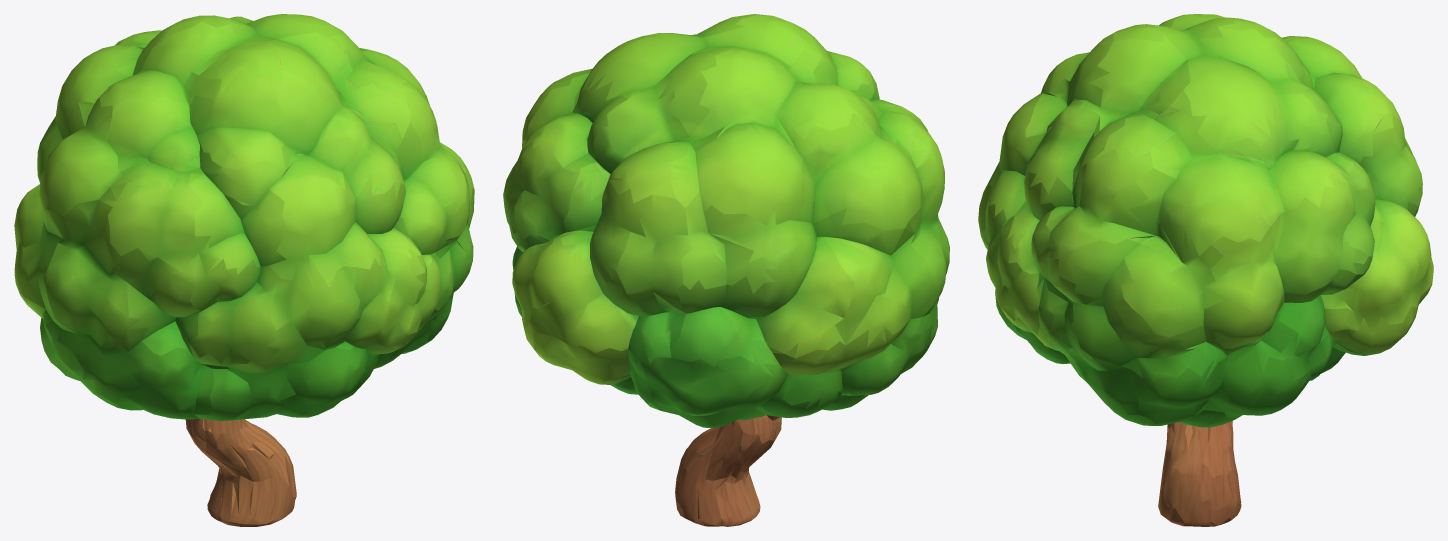
The picture shows the model from 3 angles, left to right: view 1: azimuth 30°, elevation 25°; view 2: azimuth 150°, elevation 25°; view 3: azimuth 270°, elevation 25°; orthographic projection.
Size of the model in its own units: 1.69 by 1.9 by 1.65.
1 material, 1 textured.
